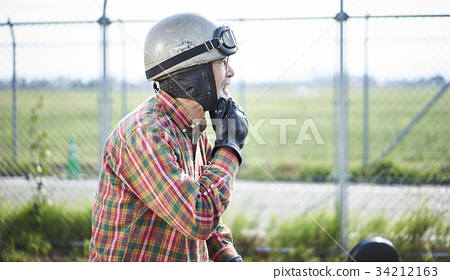helmet: (140, 11, 240, 68)
